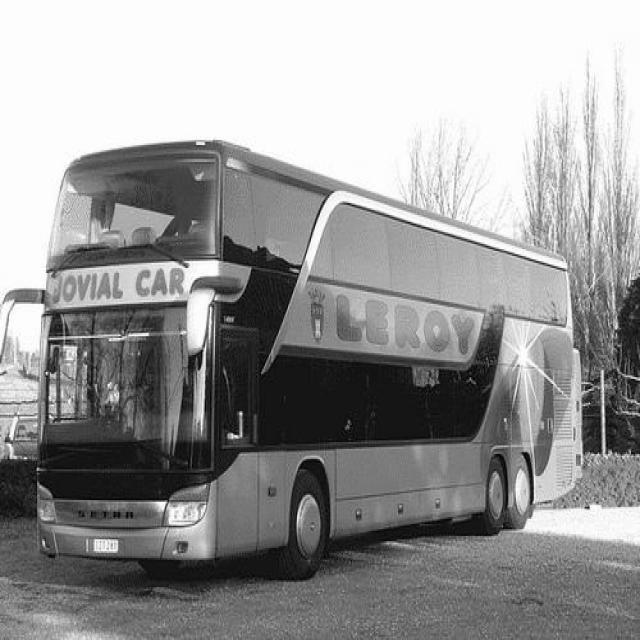vehicle: (0, 141, 583, 583), (9, 413, 41, 463)
